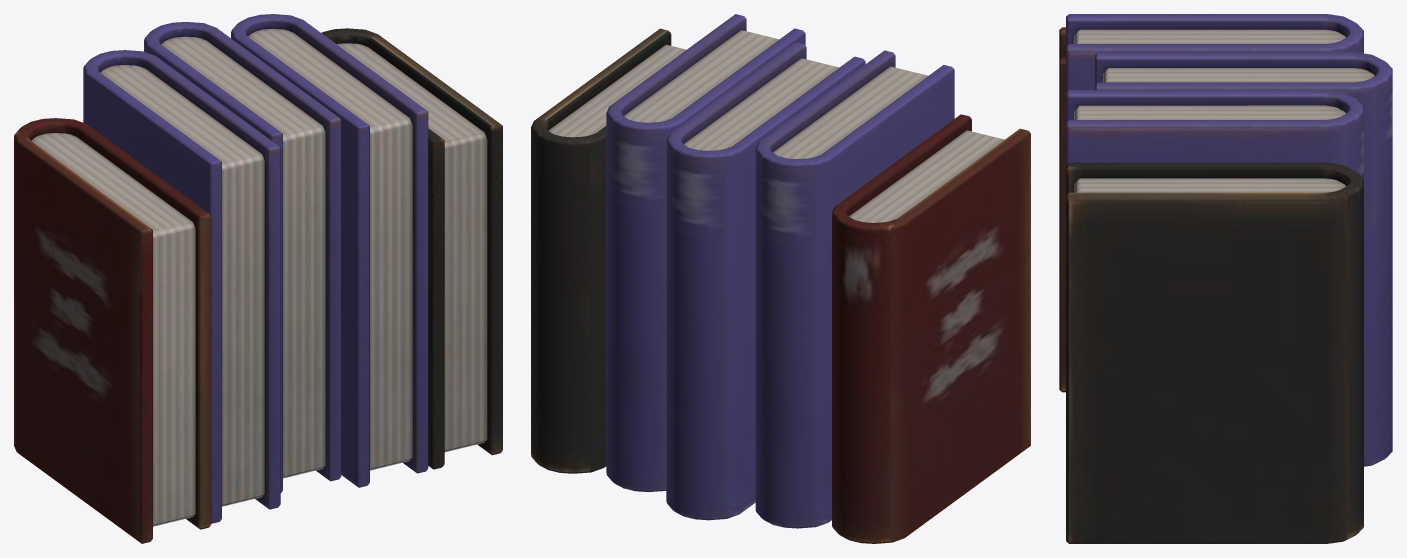
Rendered from SM_Book001_stack01.glb.
The picture shows the model from 3 angles, left to right: view 1: azimuth 30°, elevation 25°; view 2: azimuth 150°, elevation 25°; view 3: azimuth 270°, elevation 25°; orthographic projection. The views are drawn at different scales.
Parts seen in each view (by area): view 1: SM_Book001_stack01; view 2: SM_Book001_stack01; view 3: SM_Book001_stack01.
Part boxes in pixels (x1=…): SM_Book001_stack01: x1=14, y1=14, x2=502, y2=543; SM_Book001_stack01: x1=531, y1=14, x2=1030, y2=543; SM_Book001_stack01: x1=1059, y1=14, x2=1392, y2=543.
Bounding box in the file's own units: 0.4658 × 0.4395 × 0.3484.
1 material, 1 textured.
